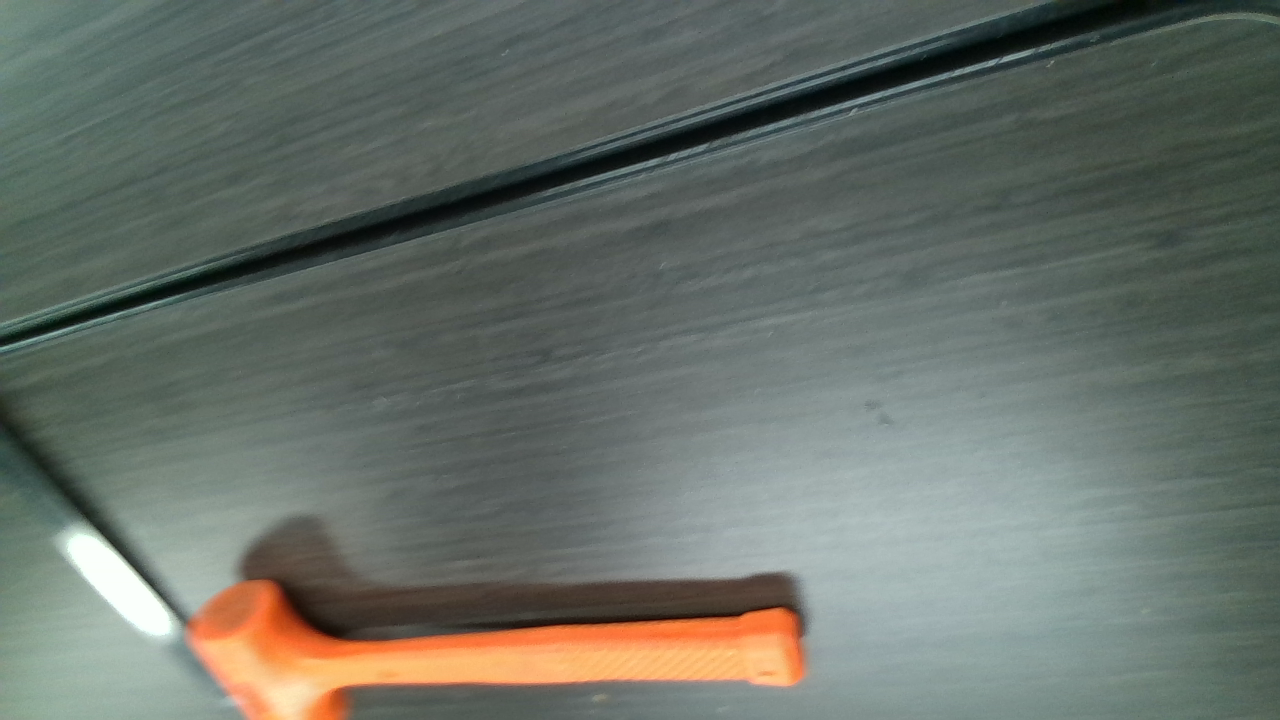Orange Hammer: (191, 579, 804, 720)
